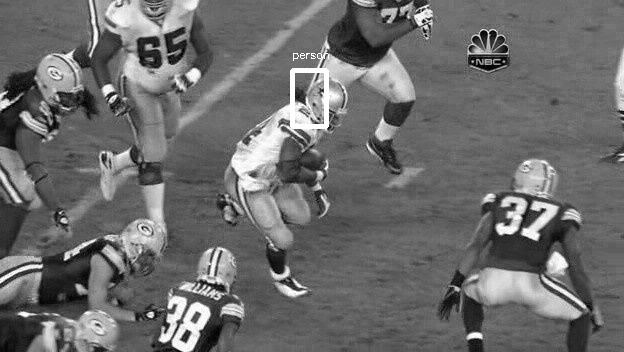person: (311, 81, 347, 132), (310, 81, 346, 132), (312, 81, 348, 132), (311, 80, 347, 131), (311, 82, 347, 133)
target_negative: (153, 205, 537, 309), (51, 266, 516, 343), (453, 19, 499, 330), (492, 183, 600, 215), (589, 118, 593, 272), (573, 293, 612, 305)
